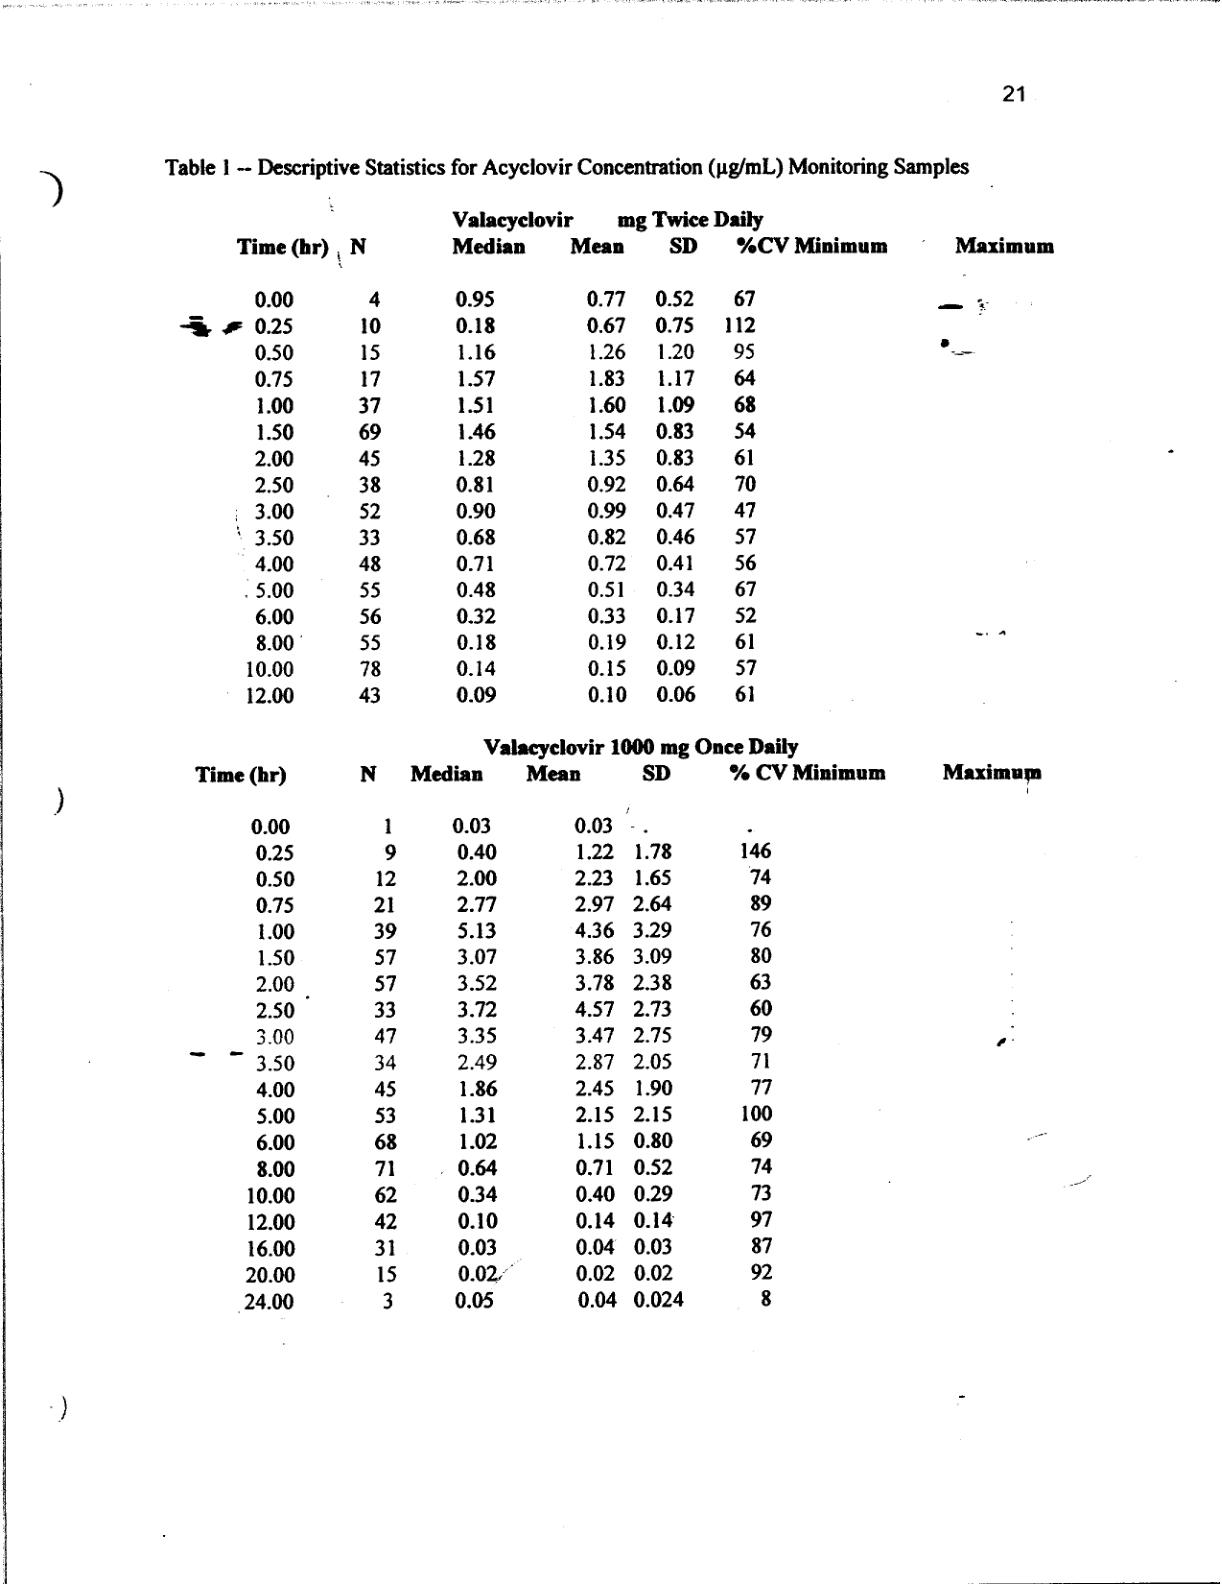nolines: (191, 737, 1046, 1314), (232, 209, 1055, 709)
